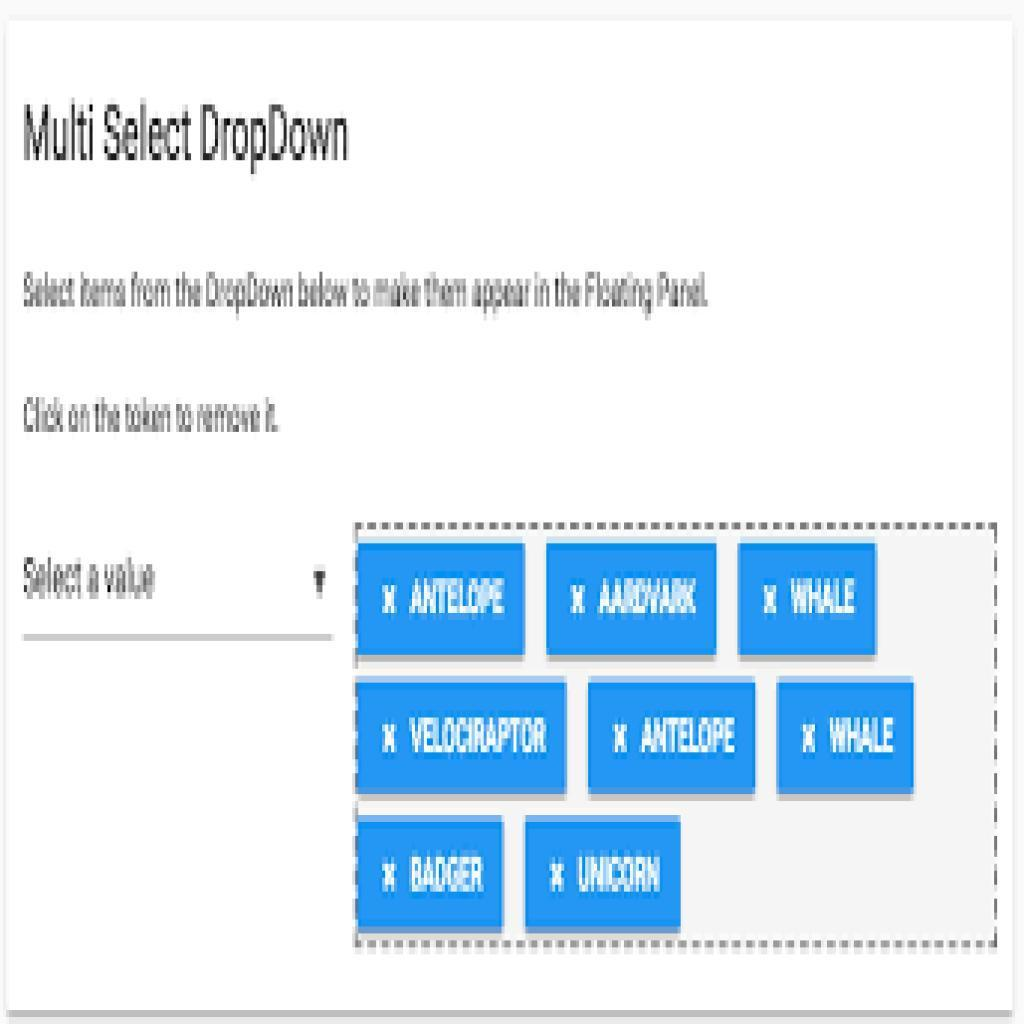button: (358, 678, 570, 799), (522, 811, 684, 938), (588, 680, 758, 797), (547, 541, 717, 657), (360, 542, 527, 659), (360, 817, 507, 935), (774, 681, 917, 799), (738, 541, 880, 659)
